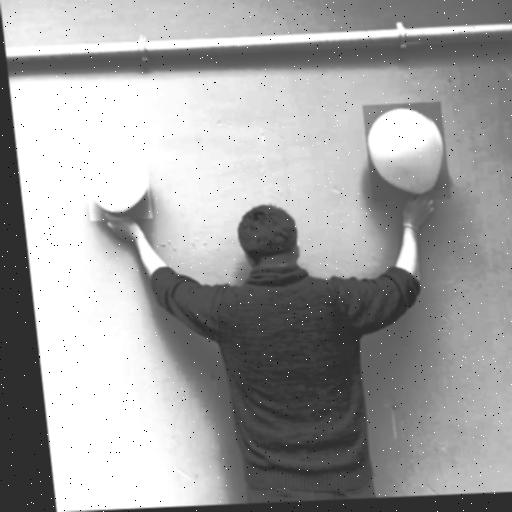balloon: (362, 102, 451, 202), (82, 142, 153, 221)
